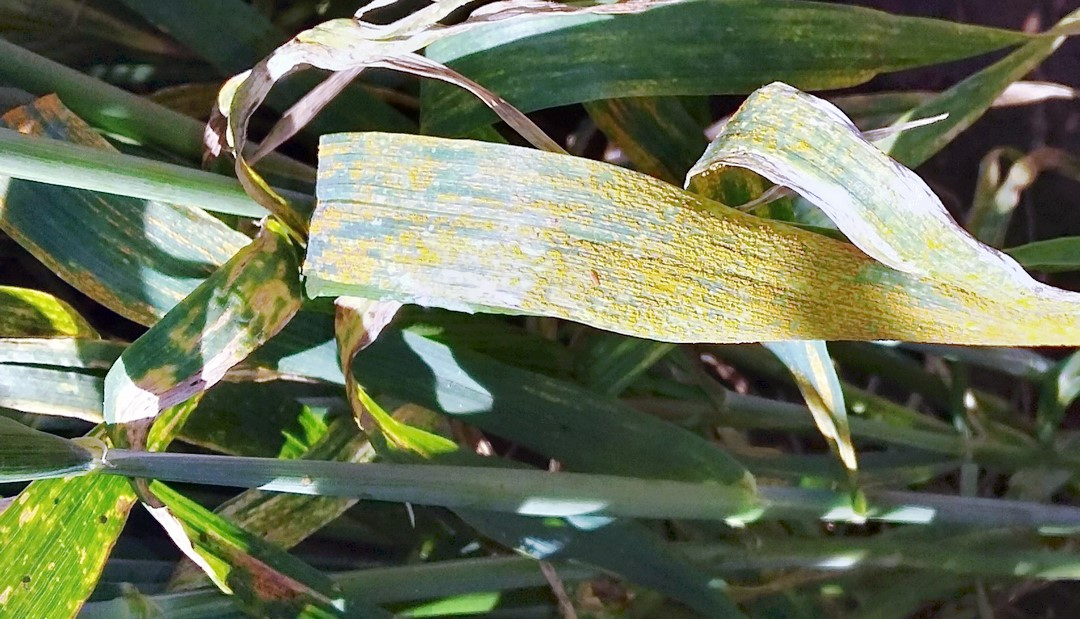Leaf Rust: (336, 130, 971, 379)
